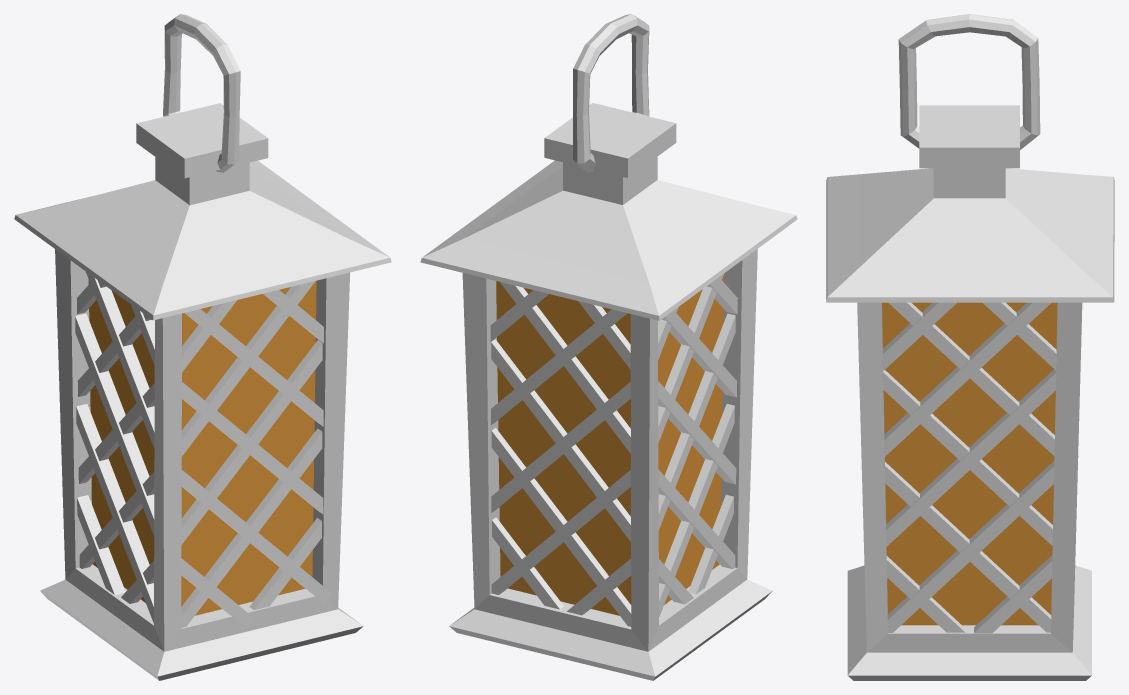
The model's file is SM_Lantern_Big_Hanging_02.fbx.
The picture shows the model from 3 angles, left to right: view 1: azimuth 30°, elevation 25°; view 2: azimuth 150°, elevation 25°; view 3: azimuth 270°, elevation 25°; orthographic projection. The views are drawn at different scales.
Parts seen in each view (by area): view 1: Cube.007, Torus.004, Cube.112, Cube.117, Cube.017, Cube.019, Cube.016, Cube.014, Cube.012, Cube.111, Cube.008, Cube.119 (+7 smaller); view 2: Cube.007, Torus.004, Cube.098, Cube.095, Cube.094, Cube.092, Cube.115, Cube.097, Cube.118, Cube.091, Cube.112, Cube.117 (+9 smaller); view 3: Cube.007, Torus.004, Cube.102, Cube.107, Cube.101, Cube.105, Cube.108, Cube.104, Cube.109, Cube.103, Cube.110, Cube.106.
Part boxes in pixels (left/top/right/bottom): Cube.007: left=14, top=103, right=391, bottom=680; Torus.004: left=163, top=14, right=240, bottom=172; Cube.112: left=75, top=313, right=154, bottom=535; Cube.117: left=76, top=404, right=153, bottom=623; Cube.017: left=181, top=340, right=322, bottom=544; Cube.019: left=181, top=428, right=322, bottom=627; Cube.016: left=181, top=281, right=315, bottom=456; Cube.014: left=181, top=470, right=332, bottom=603; Cube.012: left=182, top=382, right=323, bottom=514; Cube.111: left=85, top=271, right=154, bottom=448; Cube.008: left=185, top=309, right=323, bottom=426; Cube.119: left=77, top=495, right=125, bottom=594; Cube.007: left=420, top=103, right=797, bottom=680; Torus.004: left=573, top=14, right=649, bottom=172; Cube.098: left=491, top=428, right=631, bottom=626; Cube.095: left=491, top=339, right=630, bottom=541; Cube.094: left=500, top=282, right=630, bottom=453; Cube.092: left=491, top=382, right=630, bottom=512; Cube.115: left=658, top=313, right=735, bottom=530; Cube.097: left=491, top=470, right=630, bottom=594; Cube.118: left=659, top=404, right=734, bottom=617; Cube.091: left=491, top=309, right=627, bottom=424; Cube.112: left=658, top=381, right=736, bottom=484; Cube.117: left=658, top=469, right=735, bottom=569; Cube.007: left=826, top=105, right=1114, bottom=680; Torus.004: left=898, top=14, right=1040, bottom=149; Cube.102: left=886, top=369, right=1056, bottom=546; Cube.107: left=887, top=461, right=1054, bottom=632; Cube.101: left=884, top=302, right=1051, bottom=456; Cube.105: left=883, top=370, right=1052, bottom=545; Cube.108: left=885, top=462, right=1051, bottom=632; Cube.104: left=888, top=302, right=1054, bottom=456; Cube.109: left=974, top=555, right=1052, bottom=633; Cube.103: left=882, top=302, right=956, bottom=370; Cube.110: left=886, top=556, right=965, bottom=632; Cube.106: left=983, top=302, right=1056, bottom=370.
Bounding box in the file's own units: 53.84 × 128 × 54.04.
